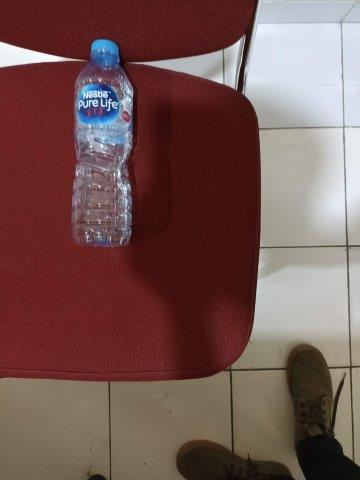botolplastik: (71, 37, 131, 246)
